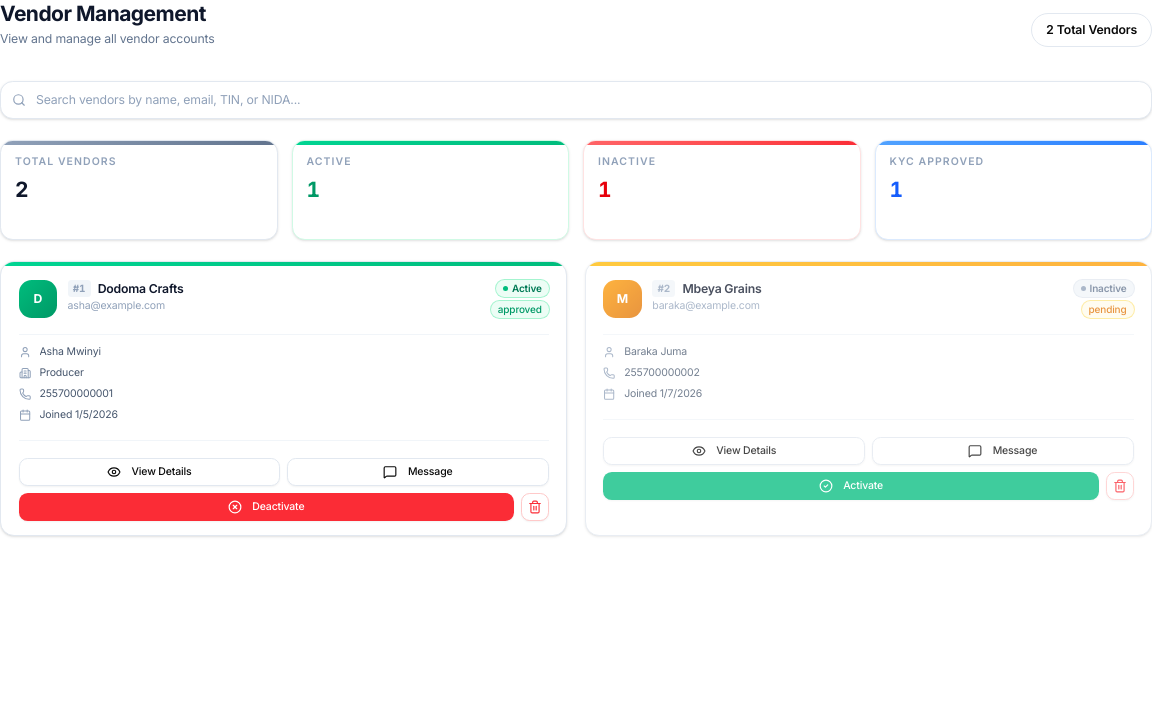
Test case: VendorManagementTab › the details dialog › opens for the vendor whose card was clicked
Expected: the heading "Dodoma Crafts" is shown, [98, 281, 184, 296]
Click the button "View Details" below "1/7/2026".
click(734, 451)  # box [603, 437, 865, 465]
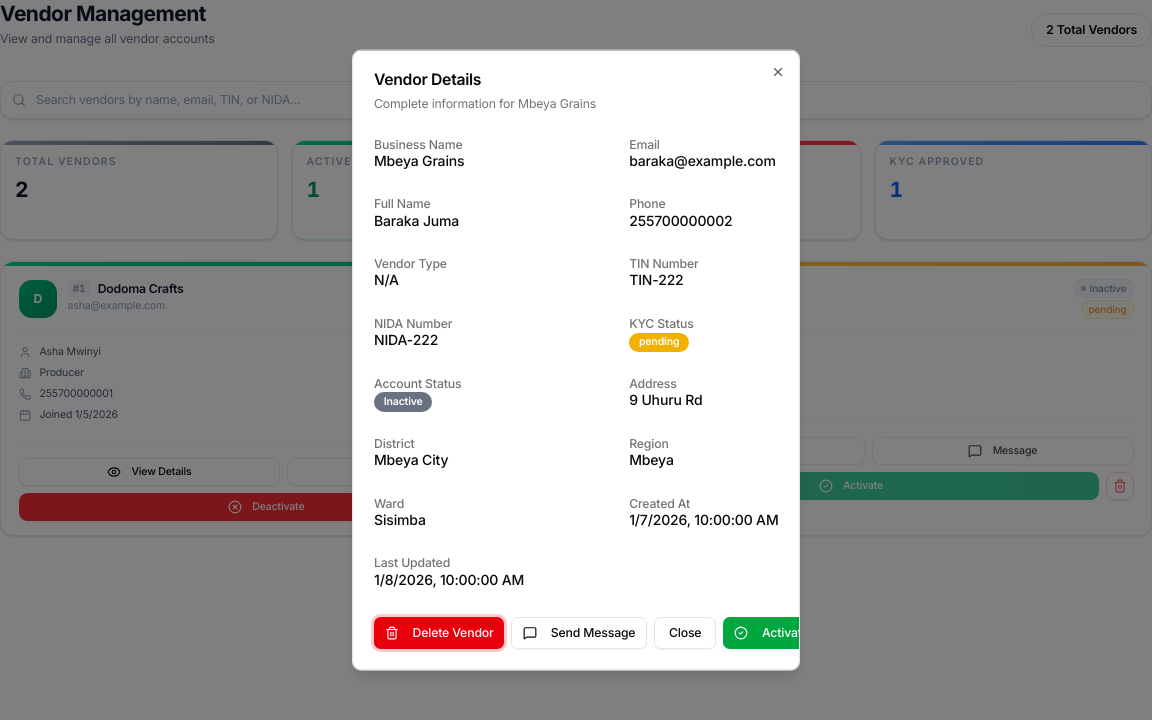
Expected: the text "Complete information for Mbeya Grains" is shown, [374, 95, 596, 110]
